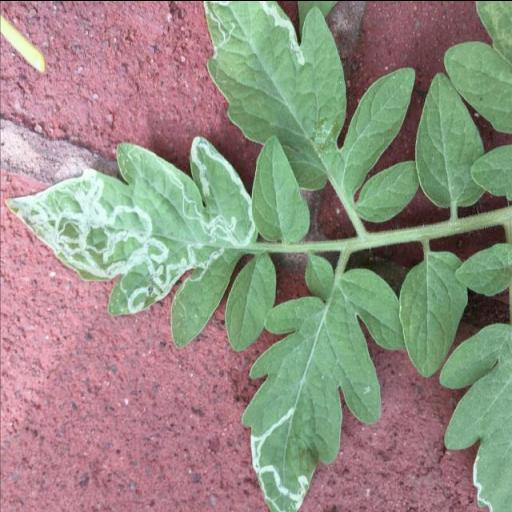disease_tomato: (5, 132, 257, 346), (242, 268, 401, 512), (187, 0, 346, 191)
